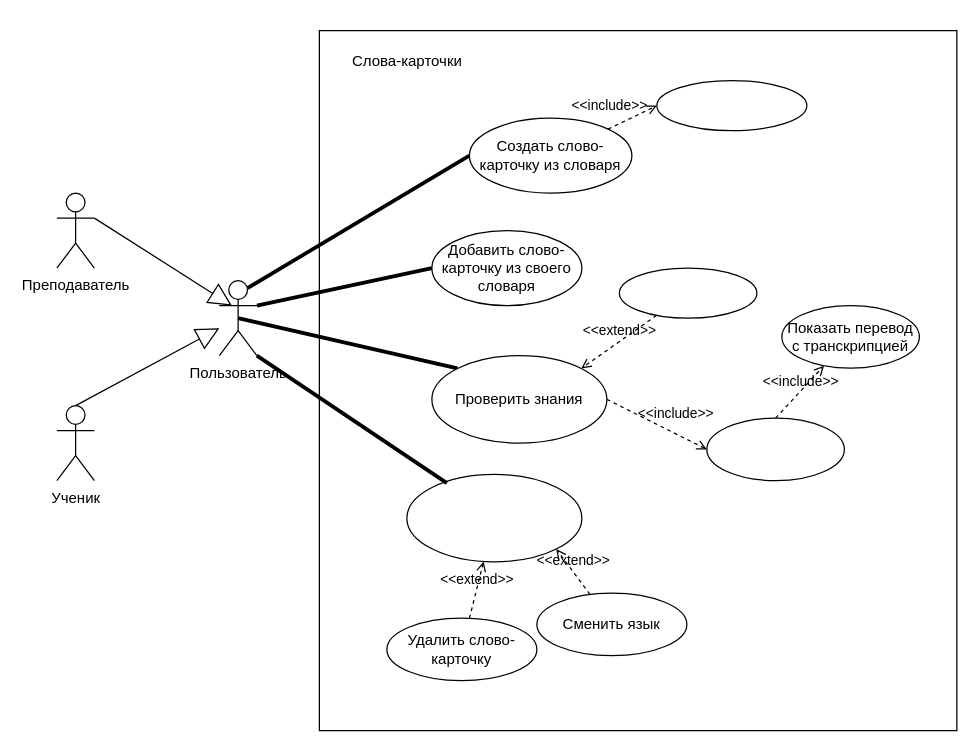
Some shapes in this 979 by 753 pixel diagram are drawn without their labels. The shapes that lost their labels are listed below. From the top down, each one's box as (x1, y1, x2, y2) in pixels, then its label:
(656, 79, 807, 131): Добавить перевод с танскрипцией
(618, 267, 757, 318): Показать картинку
(706, 417, 844, 481): Отметить статус слова (вспомнил/не вспомнил)
(406, 473, 582, 562): Действия с карточками
